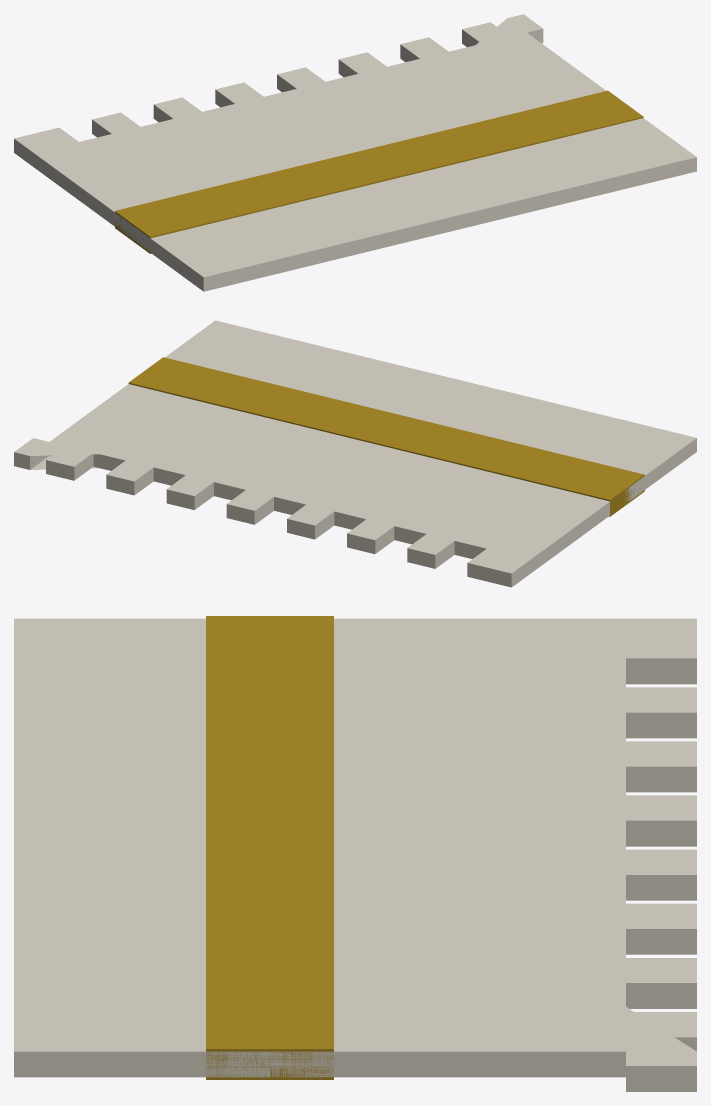
File: fx_ticket.glb
The picture shows the model from 3 angles, top to bottom: view 1: azimuth 30°, elevation 25°; view 2: azimuth 150°, elevation 25°; view 3: azimuth 270°, elevation 25°; orthographic projection. The views are drawn at different scales.
Visible parts, largest first — view 1: ticket; view 2: ticket; view 3: ticket.
Part boxes in pixels (x1,y1,x2,y2): ticket: (14, 14, 696, 291); ticket: (14, 320, 696, 587); ticket: (14, 616, 696, 1091).
Bounding box in the file's own units: 0.372 × 0.012 × 0.24.
